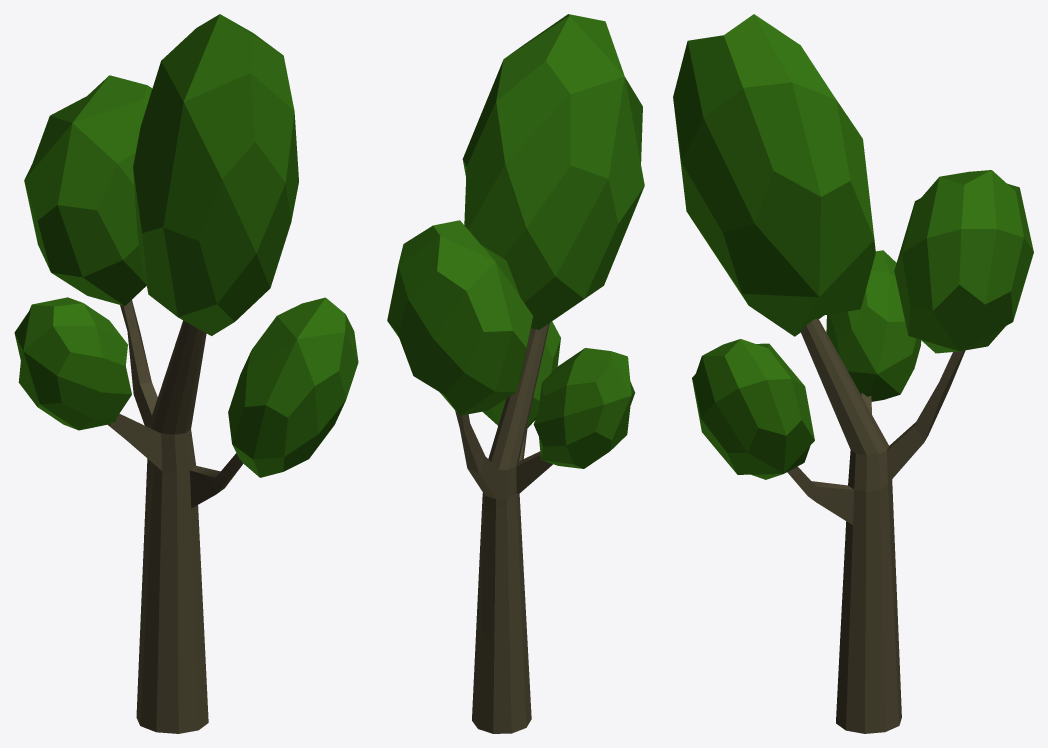
Rendered from tall_thin_tree.fbx.
3 renders of one model, left to right at view 1: azimuth 30°, elevation 25°; view 2: azimuth 150°, elevation 25°; view 3: azimuth 270°, elevation 25°, orthographic. The views are drawn at different scales.
Visible parts, largest first — view 1: polySurface81; view 2: polySurface81; view 3: polySurface81.
Boxes of the visible parts, x1,y1,x2,y2 form: polySurface81: (14,14,358,733); polySurface81: (387,14,644,733); polySurface81: (673,14,1033,733).
Size of the model in its own units: 7.67 by 21.32 by 9.95.
